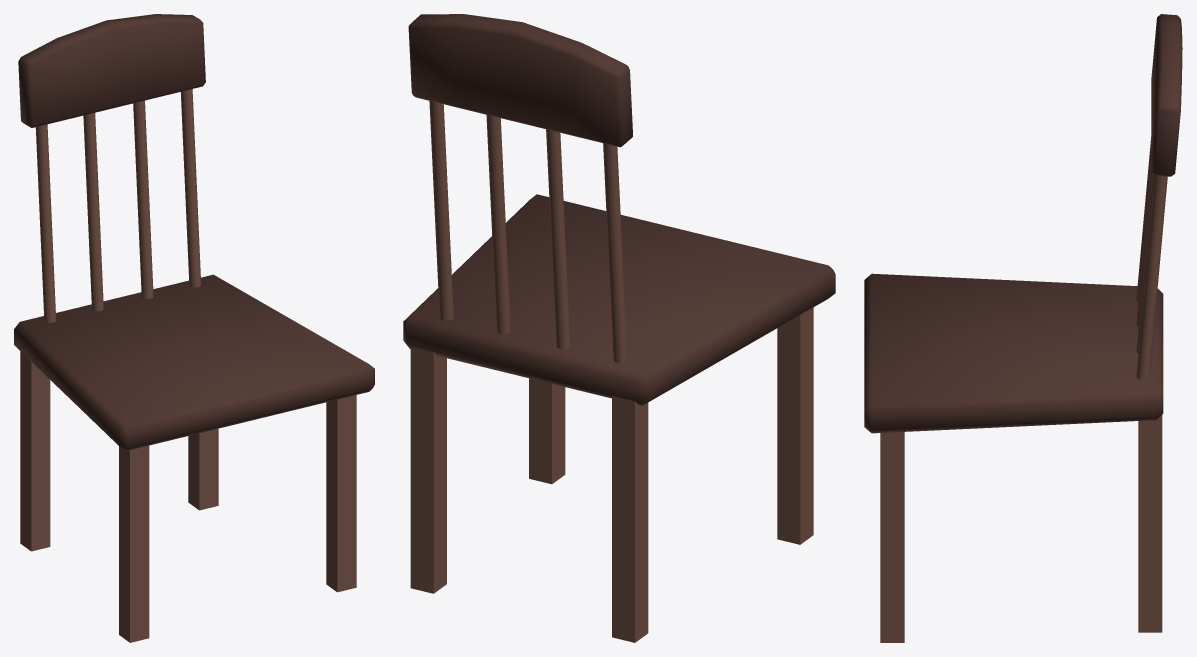
Rendered from Chair.fbx.
3 views of the same model, side by side, from view 1: azimuth 30°, elevation 25°; view 2: azimuth 150°, elevation 25°; view 3: azimuth 270°, elevation 25° (orthographic). The views are drawn at different scales.
Visible parts, largest first — view 1: Chair; view 2: Chair; view 3: Chair.
Part boxes in pixels (left/top/right/bottom): Chair: left=14, top=14, right=374, bottom=642; Chair: left=403, top=14, right=835, bottom=642; Chair: left=864, top=14, right=1182, bottom=642.
Bounding box in the file's own units: 0.4985 × 0.9249 × 0.494.
